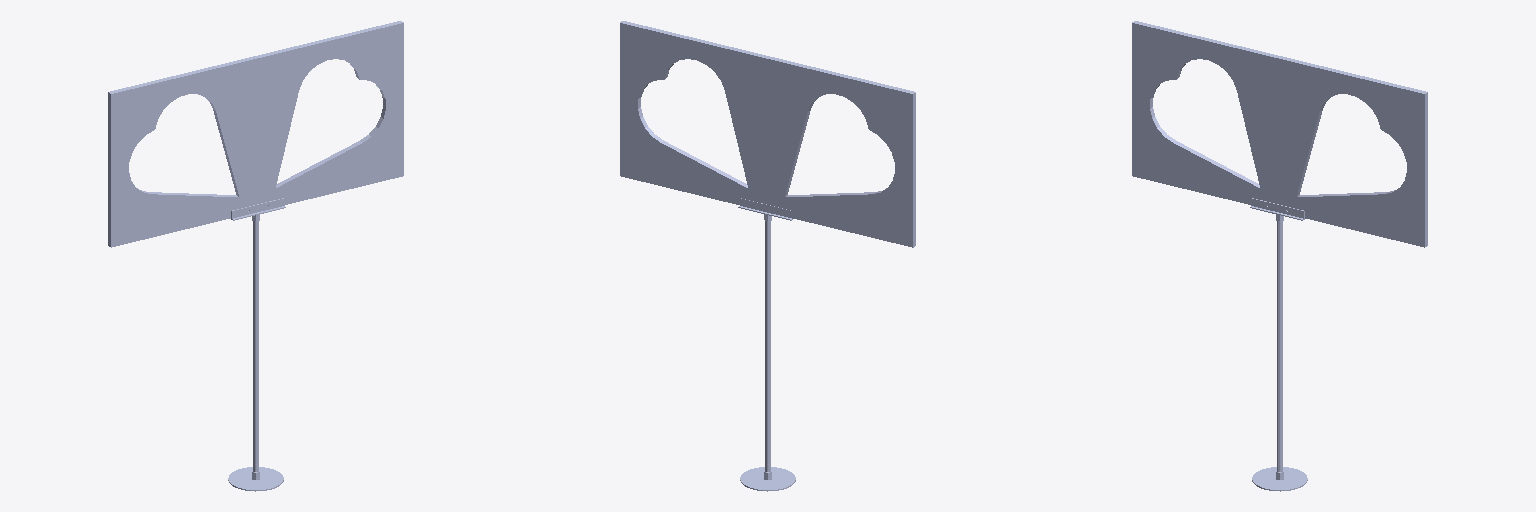
The robot description file, URDF, robot "niot_torpedo":
<robot
  name="niot_torpedo">
  <link
    name="base_link">
    <inertial>
      <origin
        xyz="0.092871 0.37499 0.12629"
        rpy="0 0 0" />
      <mass
        value="11.226" />
      <inertia
        ixx="0.58018"
        ixy="1.6526E-16"
        ixz="-1.8857E-19"
        iyy="6.3839E-07"
        iyz="0.00056597"
        izz="0.58018" />
    </inertial>
    <visual>
      <origin
        xyz="0 0 0"
        rpy="0 0 0" />
      <geometry>
        <mesh
          filename="package://niot_torpedo/meshes/base_link.STL" />
      </geometry>
      <material
        name="">
        <color
          rgba="0.79216 0.81961 0.93333 1" />
      </material>
    </visual>
    <collision>
      <origin
        xyz="0 0 0"
        rpy="0 0 0" />
      <geometry>
        <mesh
          filename="package://niot_torpedo/meshes/base_link.STL" />
      </geometry>
    </collision>
  </link>
  <gazebo reference="base_link">
    <material>Gazebo/Green</material>
  </gazebo>
  <gazebo>
    <static>true</static>
  </gazebo>
</robot>

--- Facts derived from the render (not from the file) ---
3 views of the same robot in one strip: view 1: azimuth 30°, elevation 25°; view 2: azimuth 150°, elevation 25°; view 3: azimuth 330°, elevation 25° (orthographic).
Robot: niot_torpedo — 1 links, 0 joints (none); root link base_link; default pose: all joints at 0.
Links seen in each view (by area): view 1: base_link; view 2: base_link; view 3: base_link.
Boxes of the visible links, x1,y1,x2,y2 form: base_link: (108, 21, 403, 491); base_link: (620, 21, 915, 491); base_link: (1132, 21, 1427, 491).
Bounding box of the posed robot: 1.22 × 0.2 × 1.68 m (x, y, z).
Meshes: 1 distinct files referenced, 1 mesh visuals loaded (1 binary STL).
